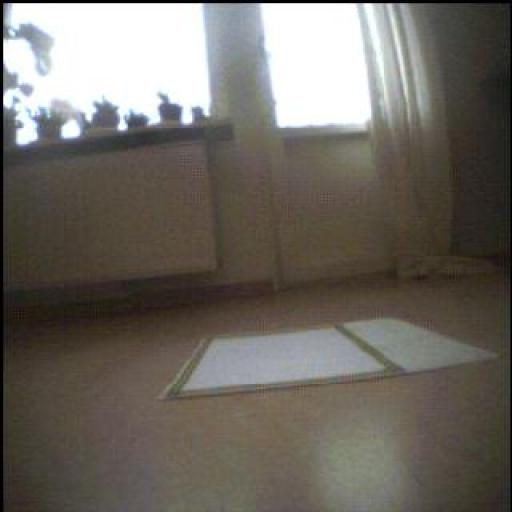Pad: (163, 320, 497, 400)
